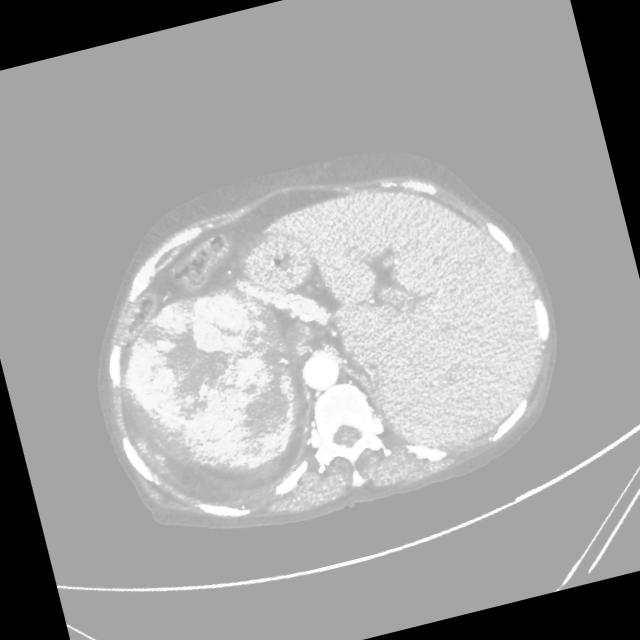TUMOR: (49, 292, 329, 553)
